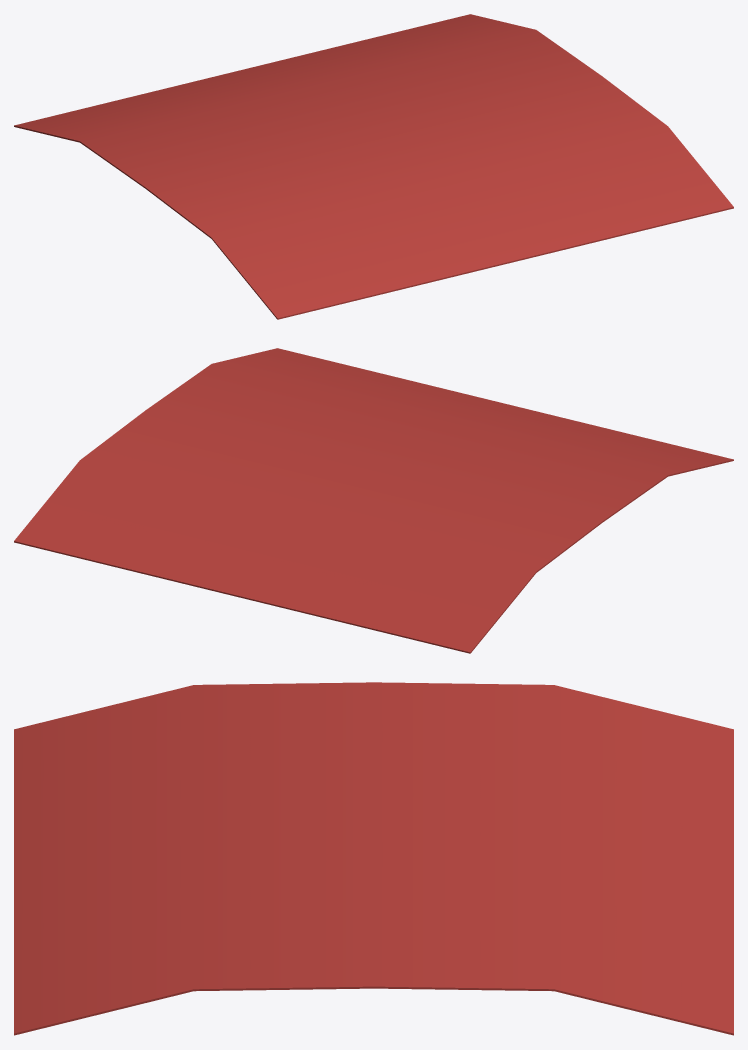
File: valanced_lod2.glb
3 views of the same model, one above another, from view 1: azimuth 30°, elevation 25°; view 2: azimuth 150°, elevation 25°; view 3: azimuth 270°, elevation 25° (orthographic). The views are drawn at different scales.
Visible parts, largest first — view 1: valanced_lod2; view 2: valanced_lod2; view 3: valanced_lod2.
Part boxes in pixels (left/top/right/bottom): valanced_lod2: left=14, top=14, right=733, bottom=319; valanced_lod2: left=14, top=348, right=733, bottom=653; valanced_lod2: left=14, top=682, right=733, bottom=1035.
Bounding box in the file's own units: 1 × 0.075 × 1.
